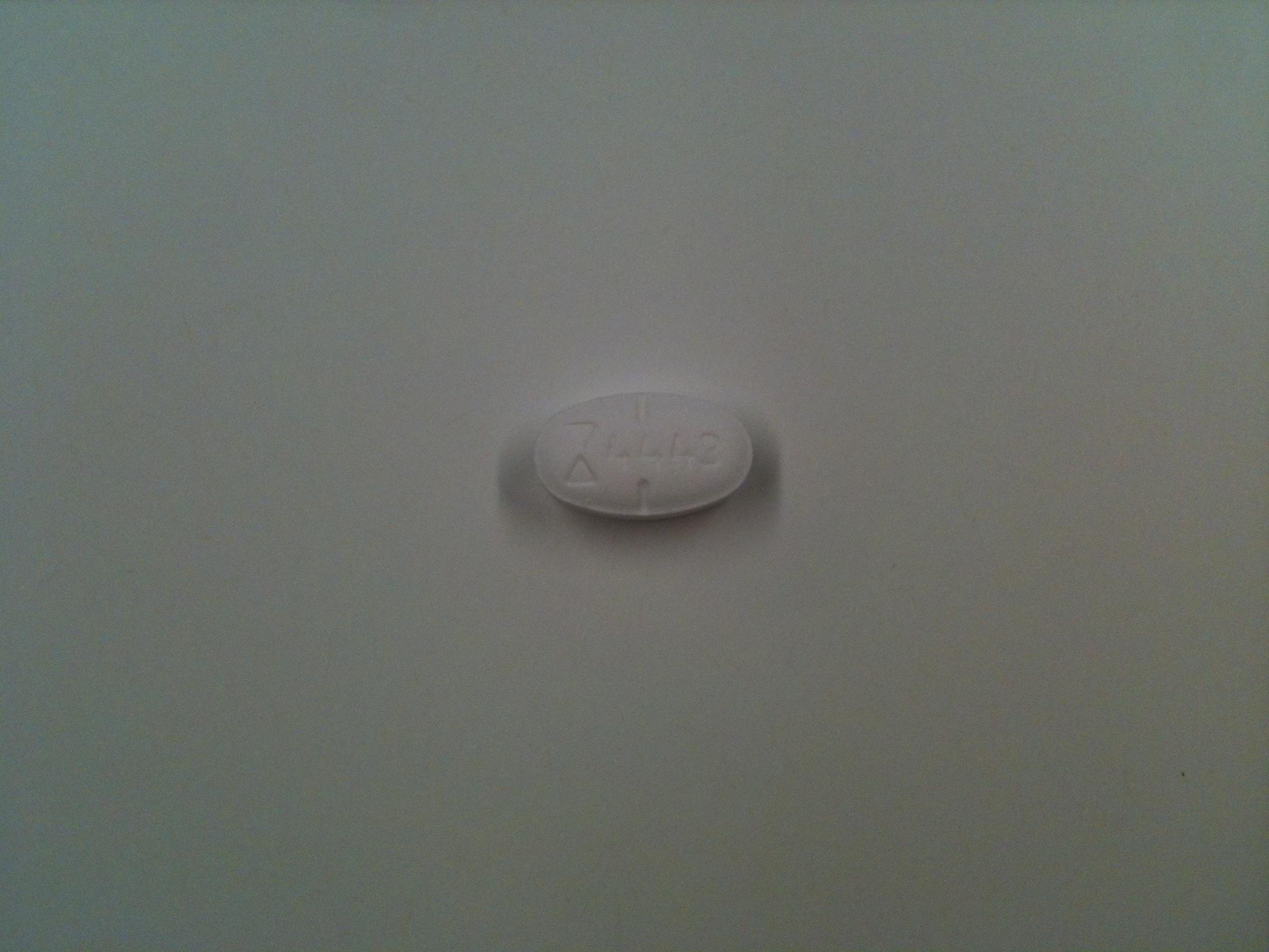Pill: (525, 384, 764, 527)
